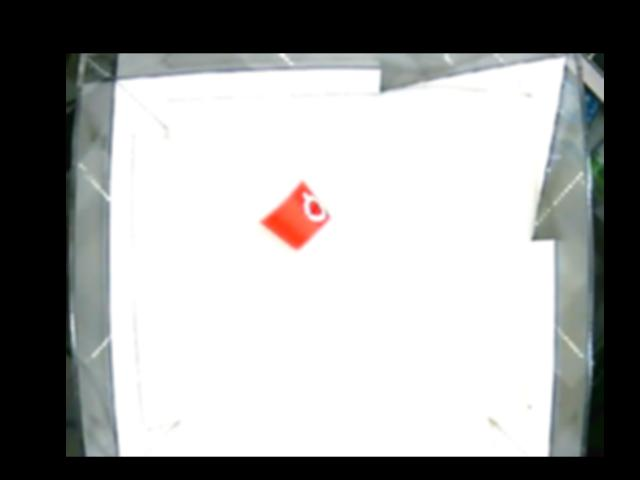Cup: (250, 172, 340, 259)
